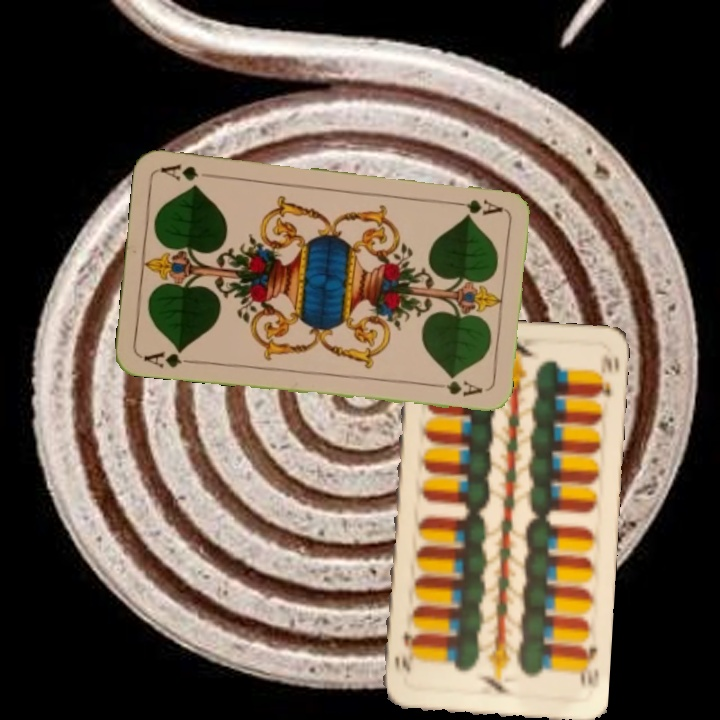E10: (574, 640, 601, 691)
GA: (139, 345, 198, 371), (446, 195, 505, 217)
